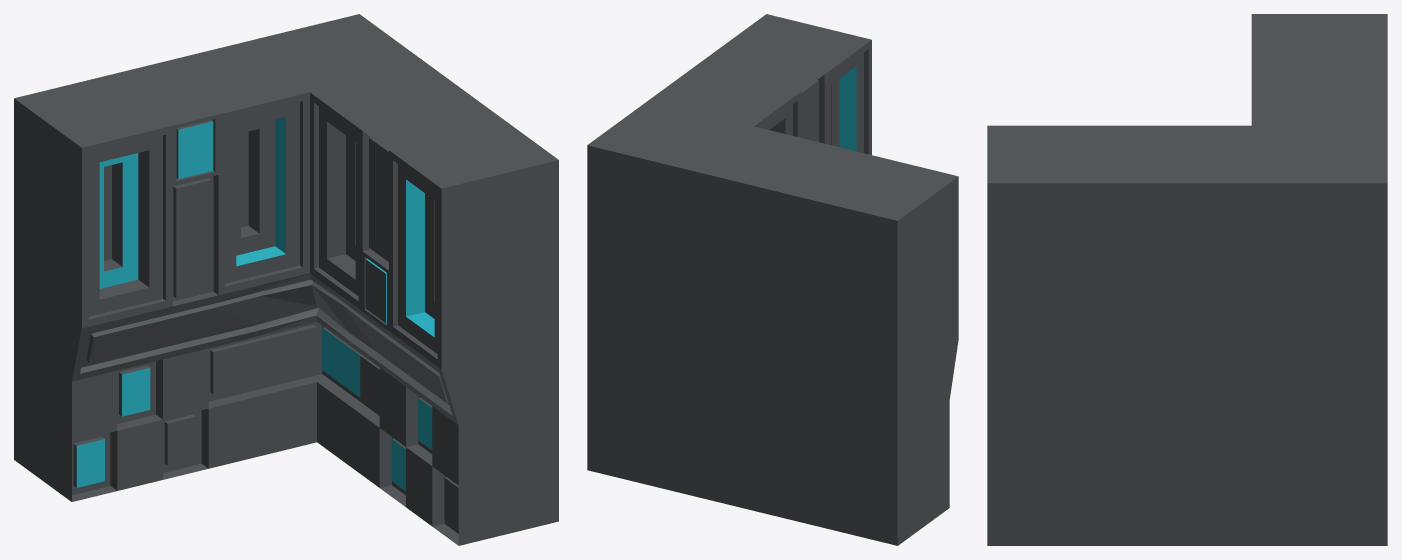
File: EspacioContenidoEsquinaCierreExteriorNS.gltf
3 views of the same model, side by side, from view 1: azimuth 30°, elevation 25°; view 2: azimuth 150°, elevation 25°; view 3: azimuth 270°, elevation 25° (orthographic). The views are drawn at different scales.
Parts seen in each view (by area): view 1: Cubo.12; view 2: Cubo.12; view 3: Cubo.12.
Part boxes in pixels (bbox=[...]): Cubo.12: bbox=[14, 14, 558, 545]; Cubo.12: bbox=[587, 14, 958, 545]; Cubo.12: bbox=[987, 14, 1387, 545].
Bounding box in the file's own units: 2 × 2 × 2.
1 material, 1 textured.
